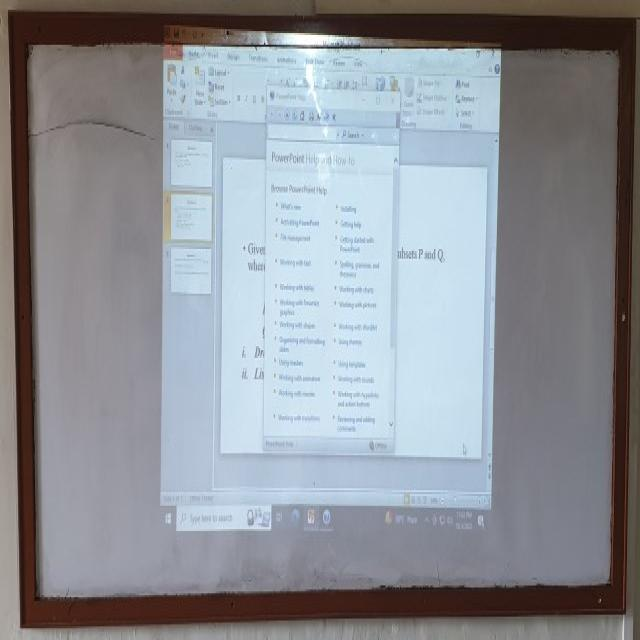Slide: (158, 24, 501, 532)
White-board: (19, 21, 630, 611)
